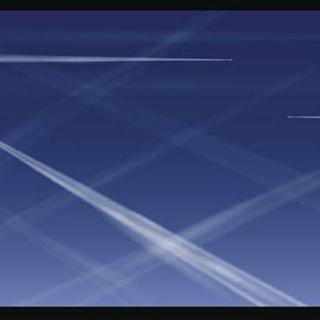Contrails: (0, 13, 320, 304)
